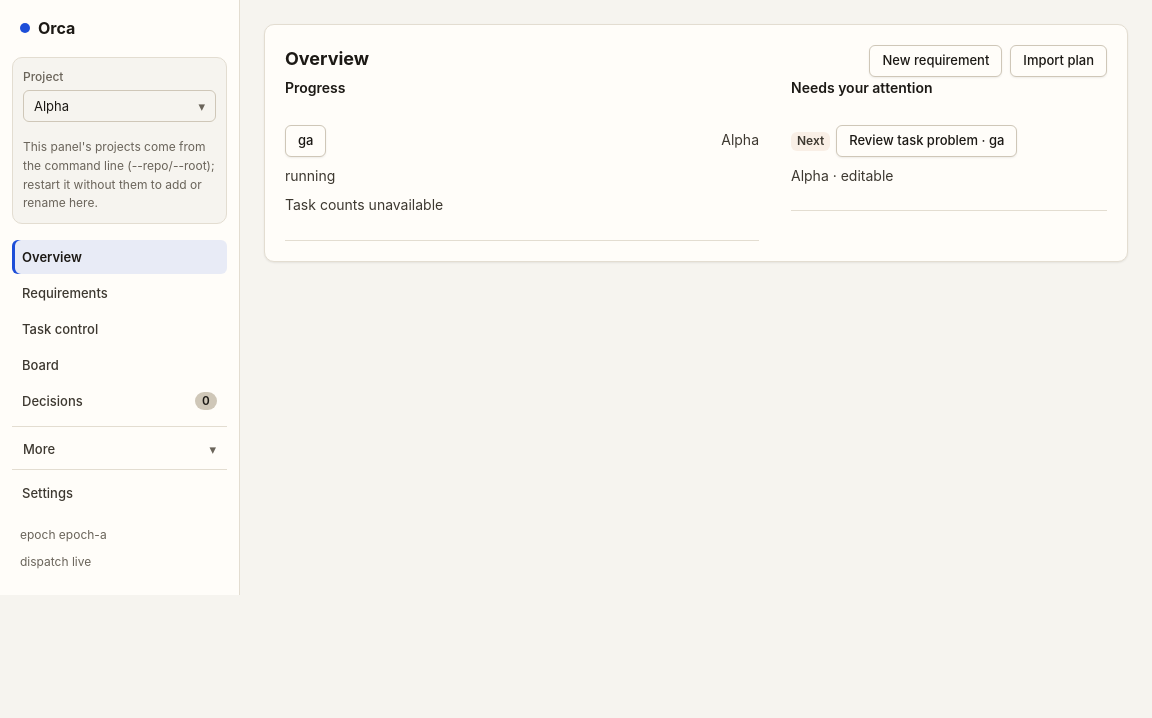
it: a task/run attention destination opens the requested task before focusing its problem region
The image size is (1152, 718).
Click the button "Review task problem · ga" at [927, 141], box [836, 125, 1017, 157]
(page scrolled)
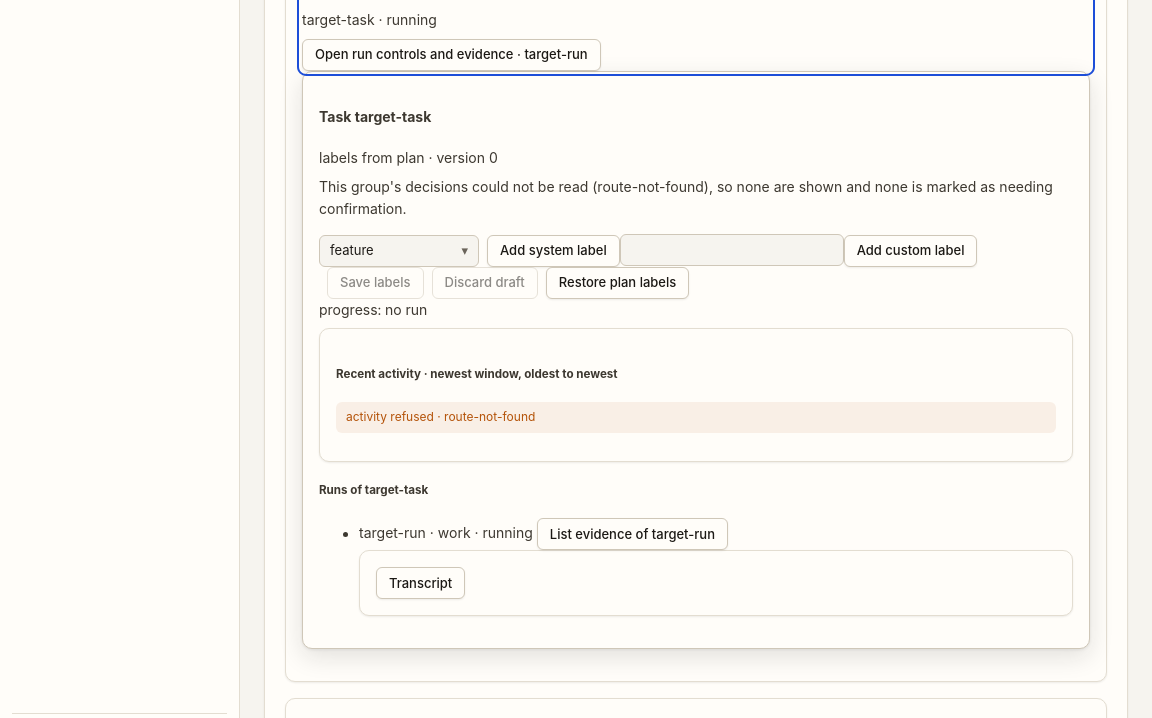
Expected: the element "Task target-task" is shown, [302, 71, 1090, 649]
